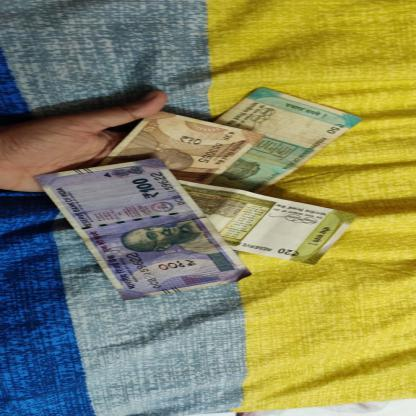New100Front: (32, 158, 251, 300)
New10Front: (95, 111, 266, 185)
New20Back: (176, 180, 358, 265)
New50Back: (213, 87, 365, 195)
